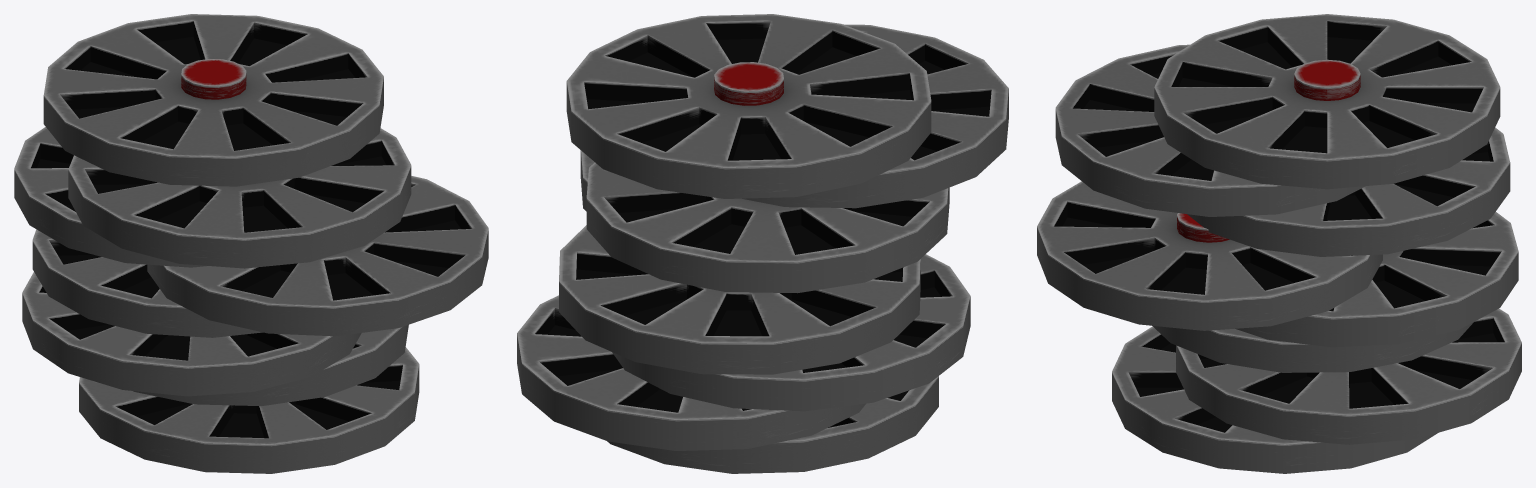
The model's file is WheelPile_2.fbx.
The picture shows the model from 3 angles, left to right: view 1: azimuth 30°, elevation 25°; view 2: azimuth 150°, elevation 25°; view 3: azimuth 270°, elevation 25°; orthographic projection. The views are drawn at different scales.
Visible parts, largest first — view 1: Wheel Pile 2; view 2: Wheel Pile 2; view 3: Wheel Pile 2.
Part boxes in pixels (x1,y1,x2,y2): Wheel Pile 2: (14, 14, 488, 473); Wheel Pile 2: (517, 14, 1008, 473); Wheel Pile 2: (1037, 14, 1521, 473).
Size of the model in its own units: 36.85 by 30.3 by 41.59.
Materials: 1 (1 with a texture image).
